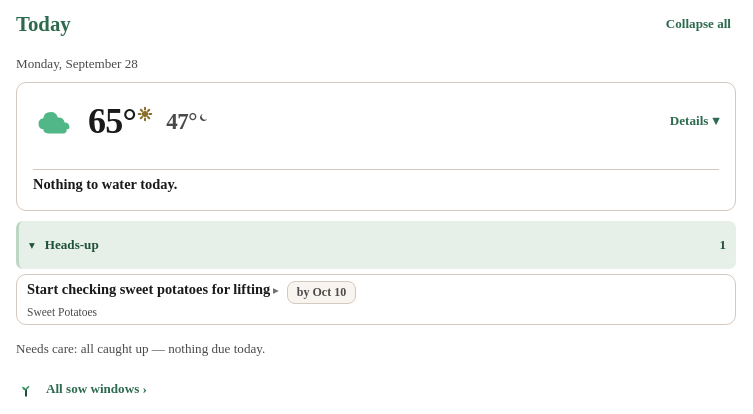
Test: Heads-up — the storage window on the real dataset › 09-28 (the window opens): second in the fixed order, OPEN by itself; its one row stands for the summary until closed
Check: the text with test id "headsup-plate" reads "by Oct 10", box [297,285,346,299]
Check: the list item with test id "headsup-row" shows "sweet potatoes", box [17,275,735,324]
Click the button "▾ Heads-up 1" at {"x": 72, "y": 244}, box [19,221,736,269]
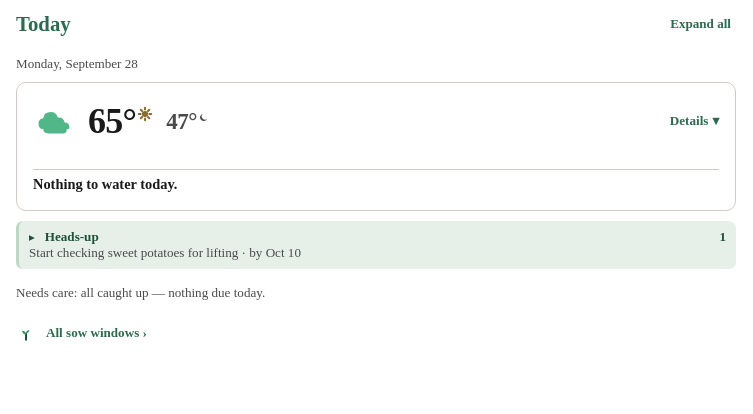
Check: the text with test id "section-summary" reads "Start checking sweet potatoes for lifting · by Oct 10", box [29,245,301,260]
